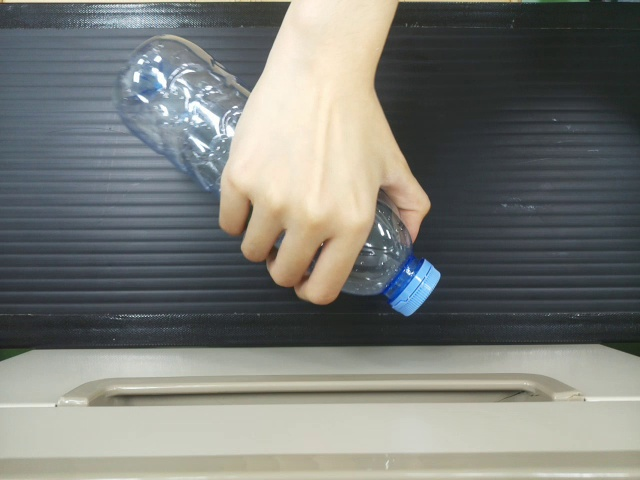bottle: (103, 28, 243, 188), (342, 193, 446, 323)
